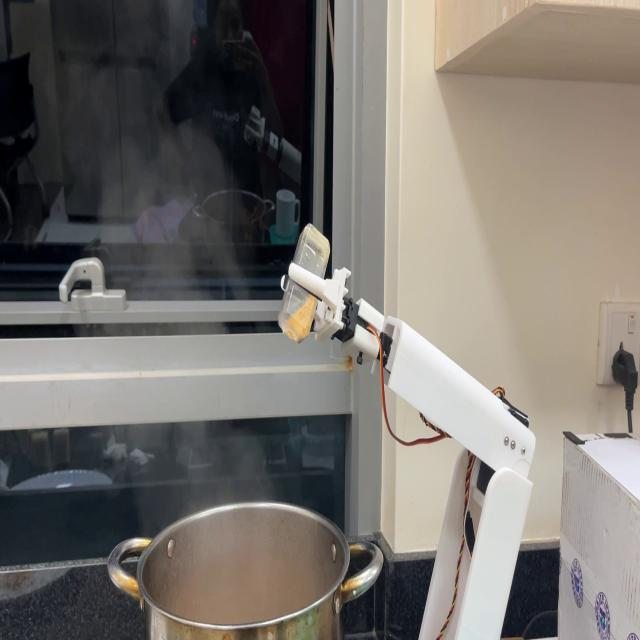cooking_pot: (109, 494, 382, 640)
curry_powder: (284, 290, 314, 346)
